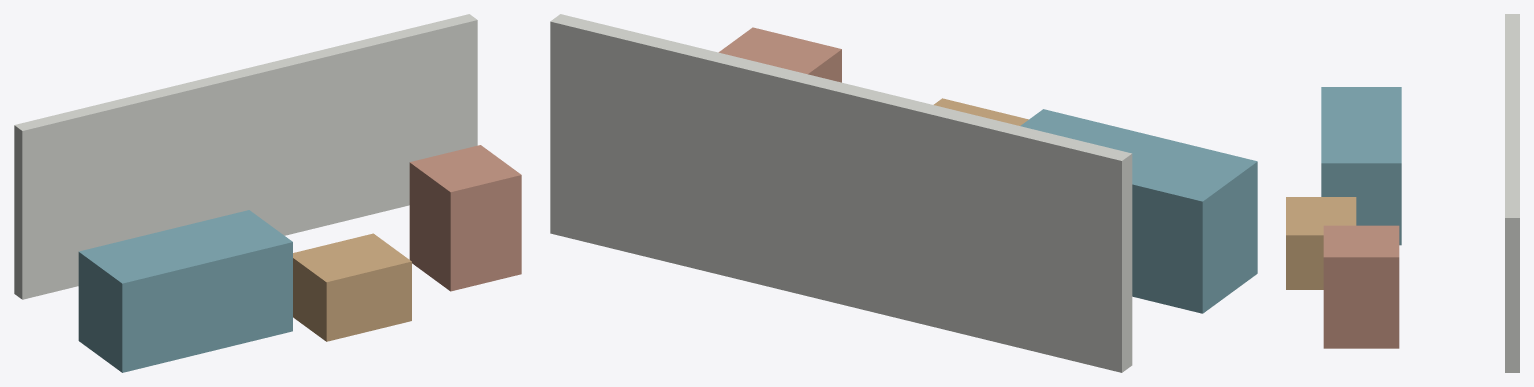
File: interaction_proxy.glb
3 views of the same model, side by side, from view 1: azimuth 30°, elevation 25°; view 2: azimuth 150°, elevation 25°; view 3: azimuth 270°, elevation 25° (orthographic). The views are drawn at different scales.
Visible parts, largest first — view 1: LIVING_WALL, LIVING_SOFA, LIVING_CHAIR, LIVING_TABLE; view 2: LIVING_WALL, LIVING_SOFA, LIVING_CHAIR, LIVING_TABLE; view 3: LIVING_SOFA, LIVING_CHAIR, LIVING_WALL, LIVING_TABLE.
Boxes of the visible parts, bbox=[...] form: LIVING_WALL: bbox=[14, 14, 477, 299]; LIVING_SOFA: bbox=[78, 210, 292, 372]; LIVING_CHAIR: bbox=[409, 145, 521, 291]; LIVING_TABLE: bbox=[293, 233, 411, 341]; LIVING_WALL: bbox=[550, 14, 1132, 372]; LIVING_SOFA: bbox=[1020, 109, 1257, 313]; LIVING_CHAIR: bbox=[718, 27, 841, 82]; LIVING_TABLE: bbox=[933, 98, 1028, 125]; LIVING_SOFA: bbox=[1321, 87, 1401, 245]; LIVING_CHAIR: bbox=[1323, 225, 1399, 348]; LIVING_WALL: bbox=[1505, 14, 1519, 372]; LIVING_TABLE: bbox=[1286, 197, 1356, 289].
Size of the model in its own units: 4.8 by 1.7 by 2.33.
